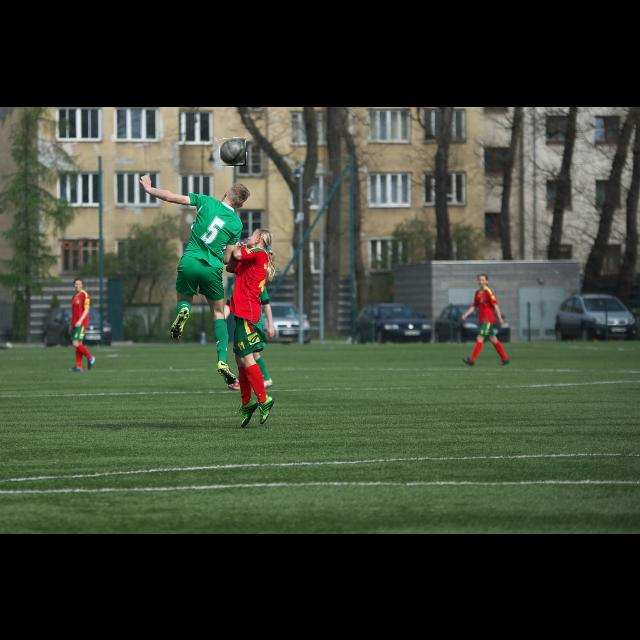Football: (220, 138, 246, 166)
